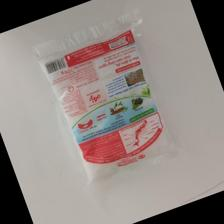Ajinomoto: (36, 29, 173, 189)
